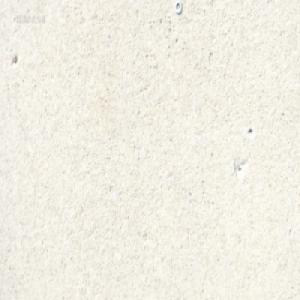Washer: (174, 0, 182, 14)
